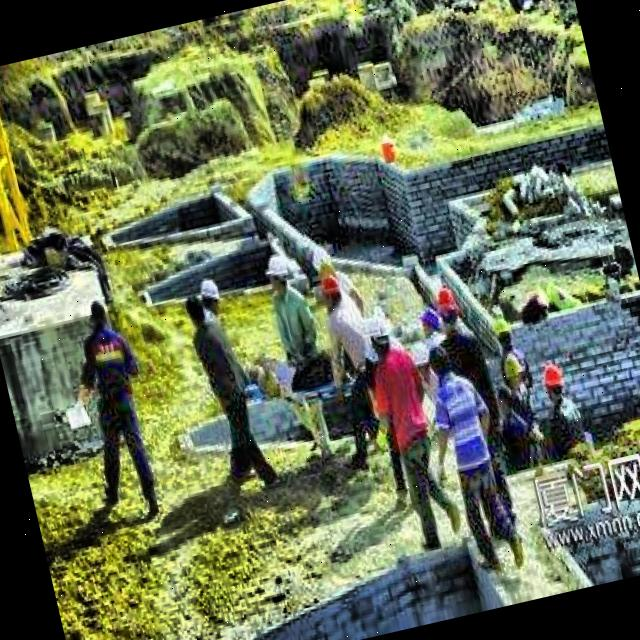helmet: (538, 356, 572, 408), (360, 309, 395, 359), (260, 247, 293, 299), (192, 270, 224, 318), (432, 285, 466, 330), (406, 335, 438, 380), (497, 348, 529, 390), (486, 312, 516, 352), (414, 305, 444, 342), (317, 273, 345, 310)
